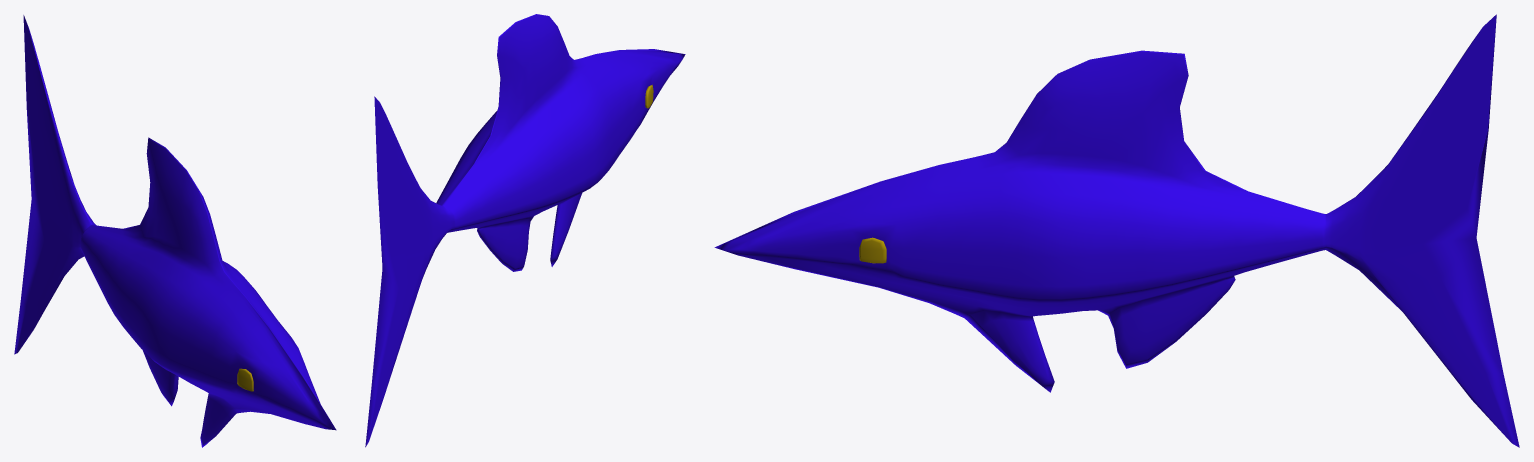
The model's file is fish.fbx.
3 renders of one model, left to right at view 1: azimuth 30°, elevation 25°; view 2: azimuth 150°, elevation 25°; view 3: azimuth 270°, elevation 25°, orthographic. The views are drawn at different scales.
Parts seen in each view (by area): view 1: pCylinder6; view 2: pCylinder6; view 3: pCylinder6.
Part boxes in pixels (left/top/right/bottom): pCylinder6: left=14, top=15, right=336, bottom=447; pCylinder6: left=365, top=14, right=685, bottom=447; pCylinder6: left=714, top=14, right=1519, bottom=447.
Bounding box in the file's own units: 327 × 1132 × 1904.
